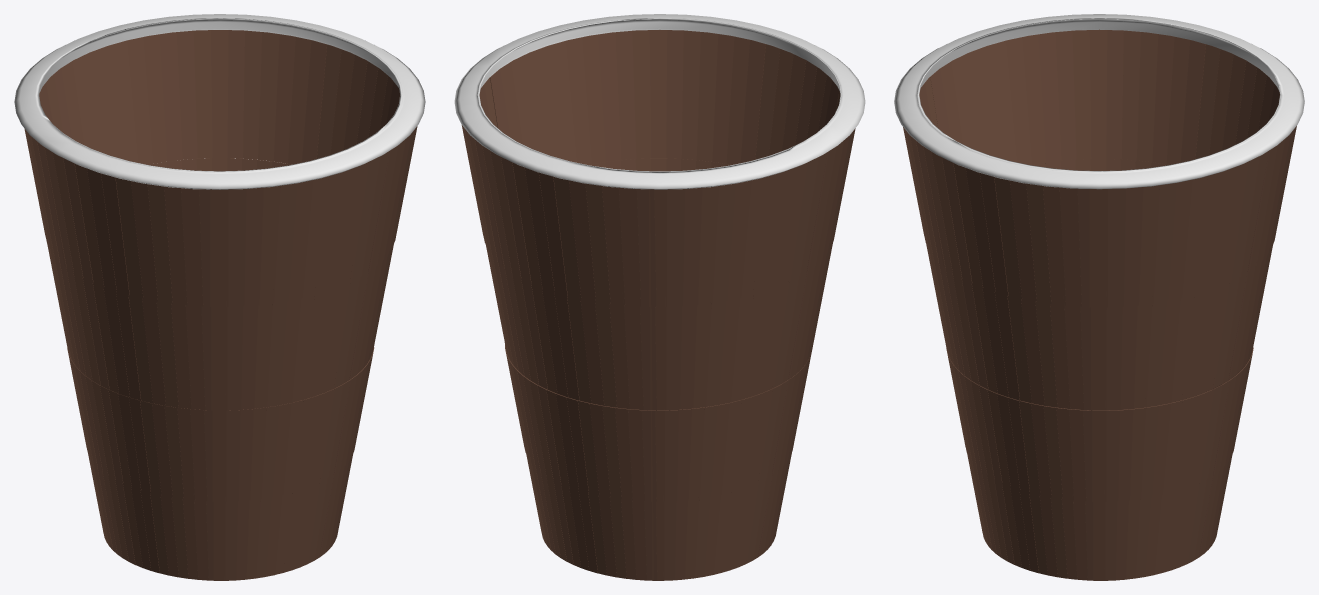
The model's file is coffee ta cup.fbx.
3 views of the same model, side by side, from view 1: azimuth 30°, elevation 25°; view 2: azimuth 150°, elevation 25°; view 3: azimuth 270°, elevation 25° (orthographic).
Visible parts, largest first — view 1: Cube.001; view 2: Cube.001; view 3: Cube.001.
Part boxes in pixels (x1,y1,x2,y2): Cube.001: [14, 14, 425, 580]; Cube.001: [454, 14, 865, 580]; Cube.001: [894, 14, 1304, 580].
Bounding box in the file's own units: 358 × 419 × 358.
